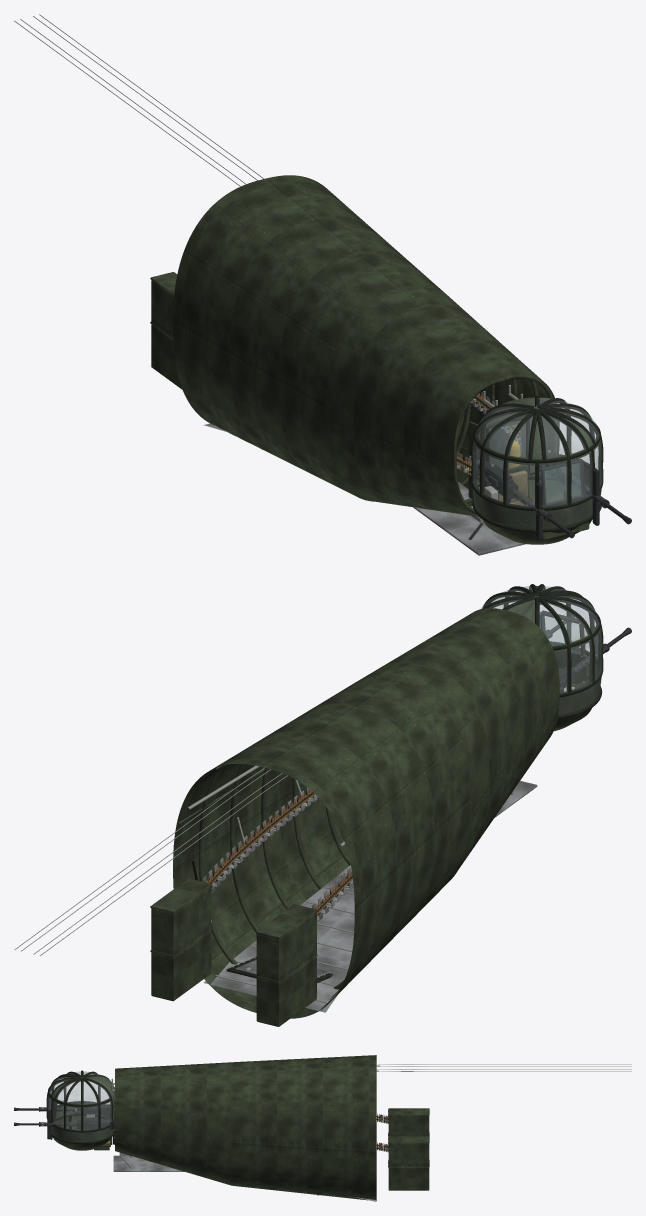
File: b24-tail.glb
3 renders of one model, top to bottom at view 1: azimuth 30°, elevation 25°; view 2: azimuth 150°, elevation 25°; view 3: azimuth 270°, elevation 25°, orthographic. The views are drawn at different scales.
Parts seen in each view (by area): view 1: b24_skin_aftfus, b24_skin_tail, b24_pglass, b24_frame, b24_tail_dome, b24_gun, b24_olive, b24_alu, b24_zinc, b24_metal, b24_ngrayD, b24_armor; view 2: b24_skin_aftfus, b24_skin_tail, b24_olive, b24_alu, b24_pglass, b24_frame, b24_zinc, b24_metal, b24_gun, b24_tail_dome, b24_brass, b24_armor; view 3: b24_skin_aftfus, b24_skin_tail, b24_olive, b24_pglass, b24_frame, b24_tail_dome, b24_gun, b24_metal, b24_alu, b24_ngrayD, b24_jacket.
Part boxes in pixels (x1,y1,x2,y2): b24_skin_aftfus: (173, 175, 466, 501); b24_skin_tail: (326, 285, 559, 516); b24_pglass: (472, 397, 601, 527); b24_frame: (471, 395, 603, 532); b24_tail_dome: (473, 397, 601, 528); b24_gun: (456, 396, 631, 539); b24_olive: (150, 272, 528, 502); b24_alu: (203, 392, 525, 555); b24_zinc: (454, 375, 589, 539); b24_metal: (14, 14, 555, 490); b24_ngrayD: (482, 479, 592, 544); b24_armor: (545, 463, 583, 502); b24_skin_aftfus: (173, 676, 470, 1018); b24_skin_tail: (332, 608, 559, 869); b24_olive: (150, 878, 317, 1026); b24_alu: (203, 780, 537, 1012); b24_pglass: (481, 586, 601, 714); b24_frame: (226, 584, 603, 982); b24_zinc: (178, 651, 588, 1000); b24_metal: (14, 605, 584, 1003); b24_gun: (210, 610, 631, 915); b24_tail_dome: (507, 586, 601, 714); b24_brass: (207, 791, 353, 915); b24_armor: (542, 616, 580, 653); b24_skin_aftfus: (231, 1055, 376, 1201); b24_skin_tail: (115, 1062, 231, 1185); b24_olive: (99, 1108, 429, 1190); b24_pglass: (47, 1071, 114, 1141); b24_frame: (46, 1070, 318, 1195); b24_tail_dome: (48, 1076, 114, 1141); b24_gun: (14, 1098, 388, 1150); b24_metal: (55, 1064, 631, 1199); b24_alu: (113, 1114, 388, 1201); b24_ngrayD: (52, 1115, 110, 1150); b24_jacket: (40, 1107, 76, 1126).
Size of the model in its own units: 1.72 by 2.24 by 9.42.
25 materials, 15 textured.
